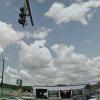Traffic light: (13, 4, 33, 27)
